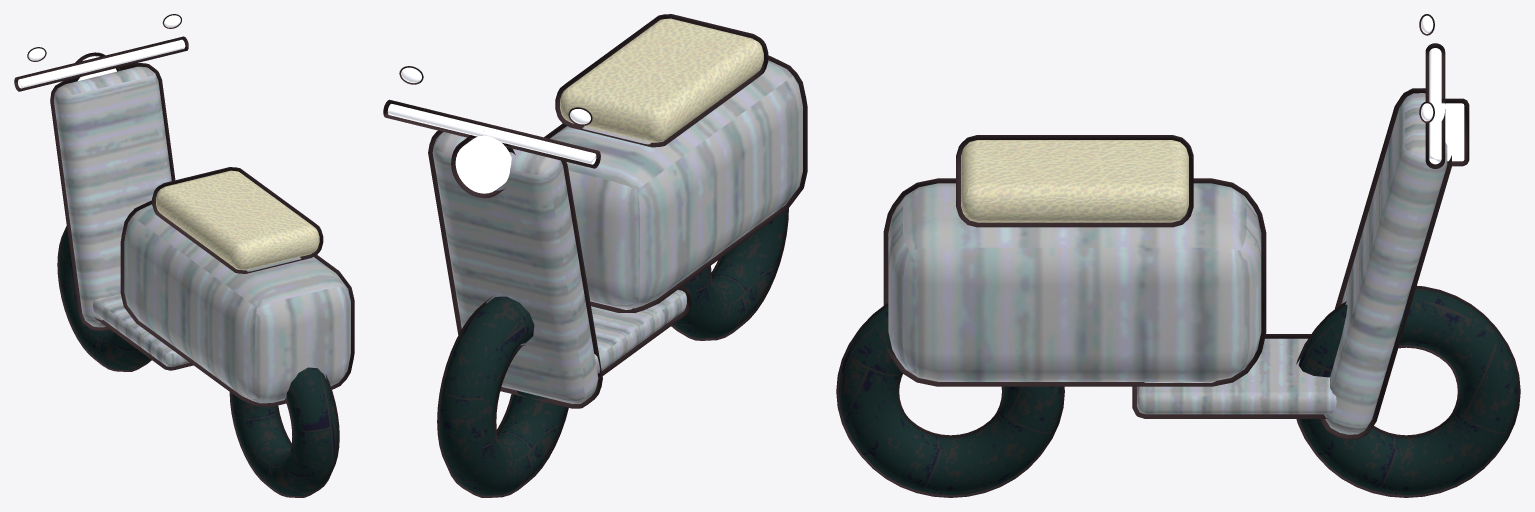
The model's file is motorino.glb.
The picture shows the model from 3 angles, left to right: view 1: azimuth 30°, elevation 25°; view 2: azimuth 150°, elevation 25°; view 3: azimuth 270°, elevation 25°; orthographic projection. The views are drawn at different scales.
Parts seen in each view (by area): view 1: Cube.067, Cube.069, Cube.068, Torus.005, Torus.004, Cylinder.031, Cube.070; view 2: Cube.067, Cube.069, Cube.068, Torus.004, Torus.005, Cube.070, Cylinder.031, Cylinder.032; view 3: Cube.067, Torus.004, Cube.068, Cube.069, Torus.005, Cube.070, Cylinder.031, Cylinder.032.
Boxes of the visible parts, x1=… form: Cube.067: x1=120, y1=200, x2=354, y2=406; Cube.069: x1=50, y1=63, x2=175, y2=330; Cube.068: x1=152, y1=167, x2=323, y2=273; Torus.005: x1=229, y1=367, x2=339, y2=497; Torus.004: x1=57, y1=226, x2=151, y2=371; Cylinder.031: x1=14, y1=36, x2=188, y2=91; Cube.070: x1=89, y1=294, x2=193, y2=370; Cube.067: x1=544, y1=55, x2=807, y2=312; Cube.069: x1=428, y1=130, x2=602, y2=408; Cube.068: x1=555, y1=14, x2=768, y2=147; Torus.004: x1=437, y1=296, x2=568, y2=497; Torus.005: x1=671, y1=208, x2=788, y2=340; Cube.070: x1=591, y1=286, x2=691, y2=378; Cylinder.031: x1=383, y1=99, x2=600, y2=168; Cylinder.032: x1=451, y1=135, x2=515, y2=198; Cube.067: x1=883, y1=178, x2=1266, y2=386; Torus.004: x1=1296, y1=286, x2=1520, y2=497; Cube.068: x1=956, y1=135, x2=1193, y2=227; Cube.069: x1=1319, y1=88, x2=1451, y2=439; Torus.005: x1=836, y1=303, x2=1064, y2=497; Cube.070: x1=1132, y1=334, x2=1336, y2=418; Cylinder.031: x1=1425, y1=43, x2=1445, y2=168; Cylinder.032: x1=1441, y1=98, x2=1469, y2=166.
Size of the model in its own units: 0.6165 by 1.16 by 1.65.
6 materials, 3 textured.
